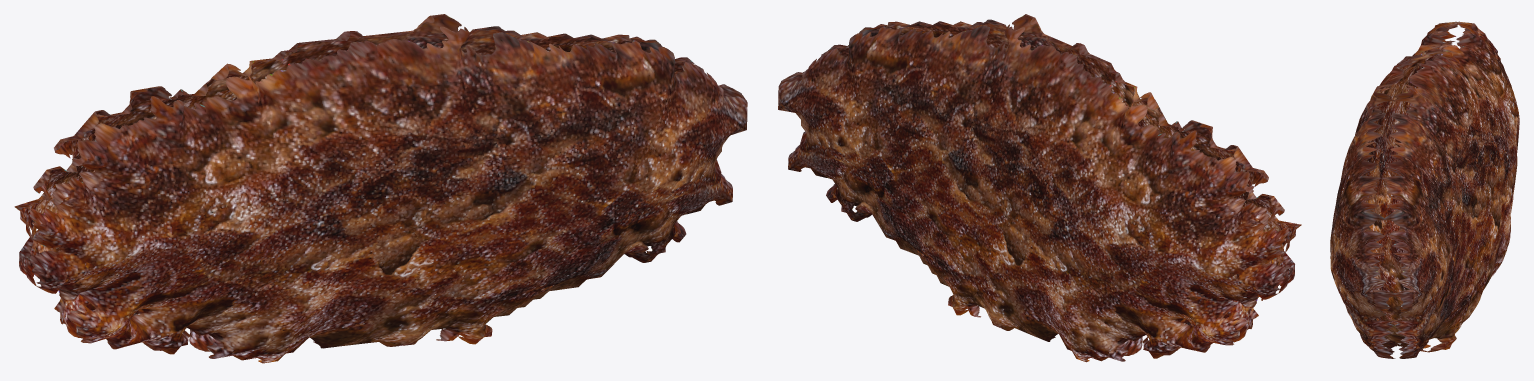
File: carne-smash.glb
3 views of the same model, side by side, from view 1: azimuth 30°, elevation 25°; view 2: azimuth 150°, elevation 25°; view 3: azimuth 270°, elevation 25° (orthographic). The views are drawn at different scales.
Visible parts, largest first — view 1: carne-smash; view 2: carne-smash; view 3: carne-smash.
Part boxes in pixels (x1,y1,x2,y2): carne-smash: [14, 14, 747, 363]; carne-smash: [778, 14, 1301, 362]; carne-smash: [1330, 21, 1519, 358].
Bounding box in the file's own units: 1.98 × 0.9808 × 0.6589.
1 material, 1 textured.
